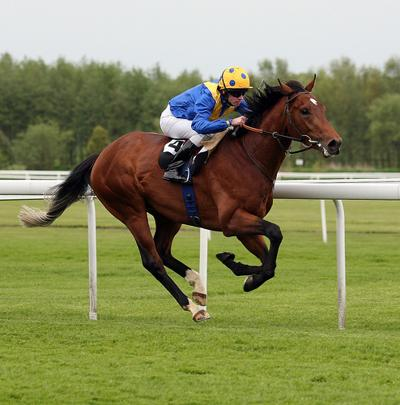person: (160, 67, 256, 182)
